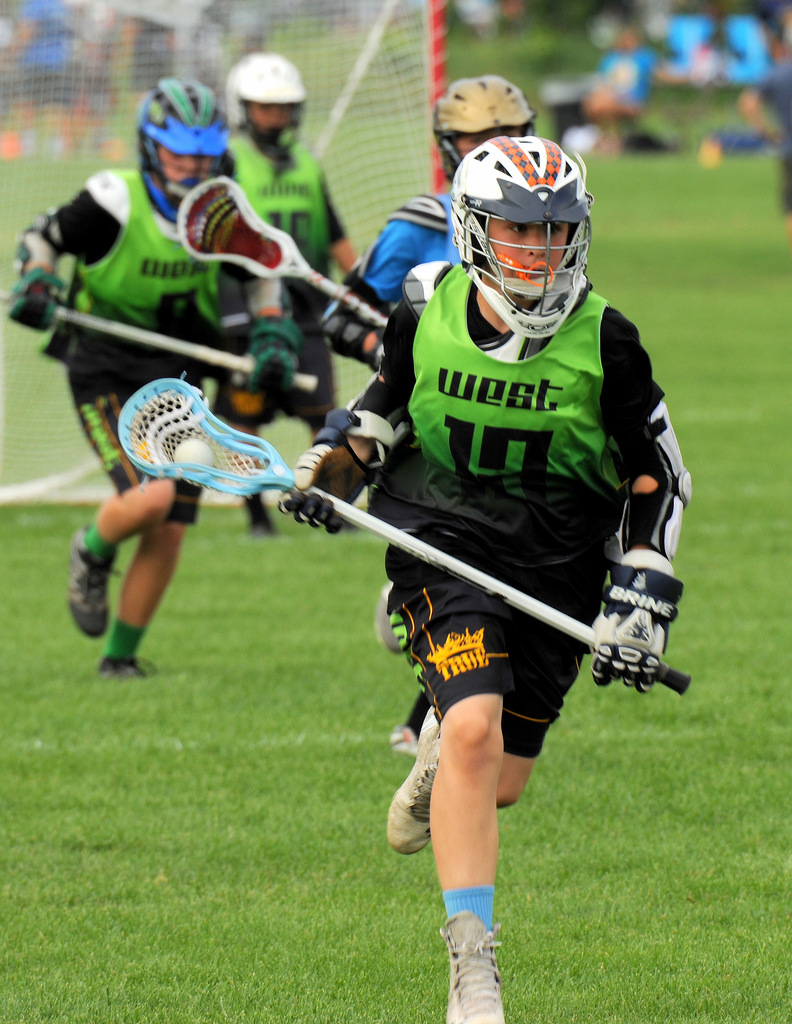Person: (0, 0, 791, 1023)
